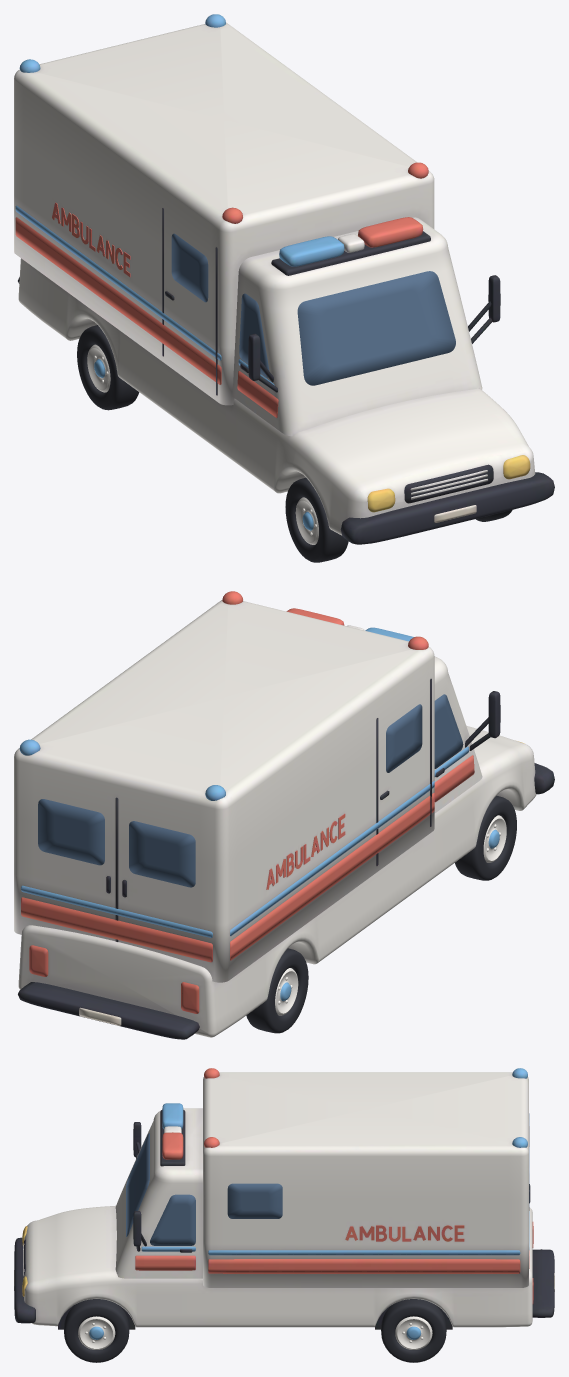
Rendered from ambulance.glb.
3 views of the same model, one above another, from view 1: azimuth 30°, elevation 25°; view 2: azimuth 150°, elevation 25°; view 3: azimuth 270°, elevation 25° (orthographic). The views are drawn at different scales.
Visible parts, largest first — view 1: ambulance_body, ambulance_windows, ambulance_wheel_fr, ambulance_wheel_rr; view 2: ambulance_body, ambulance_windows, ambulance_wheel_rr, ambulance_wheel_fr; view 3: ambulance_body, ambulance_windows, ambulance_wheel_rl, ambulance_wheel_fl.
Boxes of the visible parts, x1=… form: ambulance_body: x1=14, y1=14, x2=554, y2=544; ambulance_windows: x1=171, y1=233, x2=455, y2=385; ambulance_wheel_fr: x1=285, y1=477, x2=348, y2=562; ambulance_wheel_rr: x1=77, y1=325, x2=139, y2=410; ambulance_body: x1=14, y1=591, x2=554, y2=1039; ambulance_windows: x1=38, y1=694, x2=463, y2=887; ambulance_wheel_rr: x1=246, y1=948, x2=308, y2=1033; ambulance_wheel_fr: x1=455, y1=795, x2=516, y2=880; ambulance_body: x1=14, y1=1068, x2=554, y2=1329; ambulance_windows: x1=126, y1=1113, x2=529, y2=1245; ambulance_wheel_rl: x1=381, y1=1299, x2=446, y2=1362; ambulance_wheel_fl: x1=64, y1=1299, x2=129, y2=1362.
Size of the model in its own units: 2.46 by 2.8 by 6.11.
5 materials, 1 textured.
